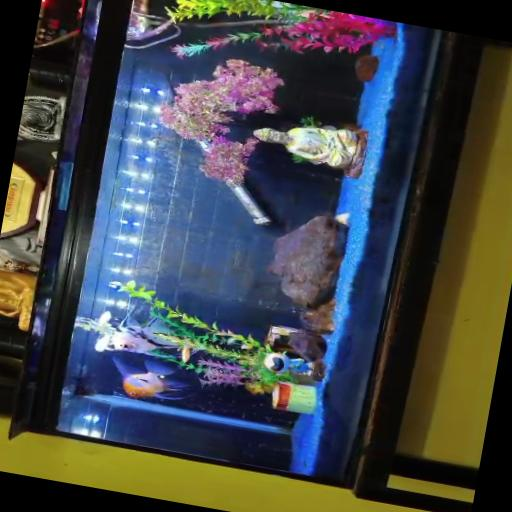Fish: (113, 356, 191, 399), (112, 318, 181, 354), (182, 346, 191, 361)
